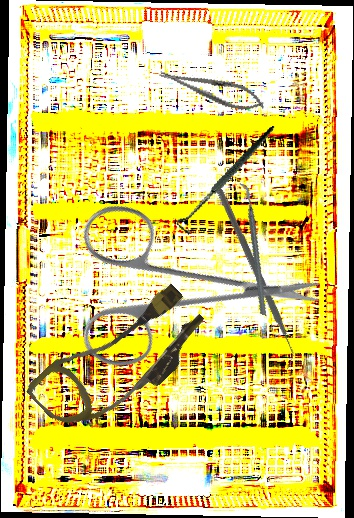Cannula: (23, 266, 217, 455)
Chopper: (155, 186, 351, 370), (206, 183, 300, 316)
Hook Surgical: (156, 125, 299, 238)
Iris Scissors: (22, 133, 329, 441)
Needle Holder: (155, 60, 269, 118)
